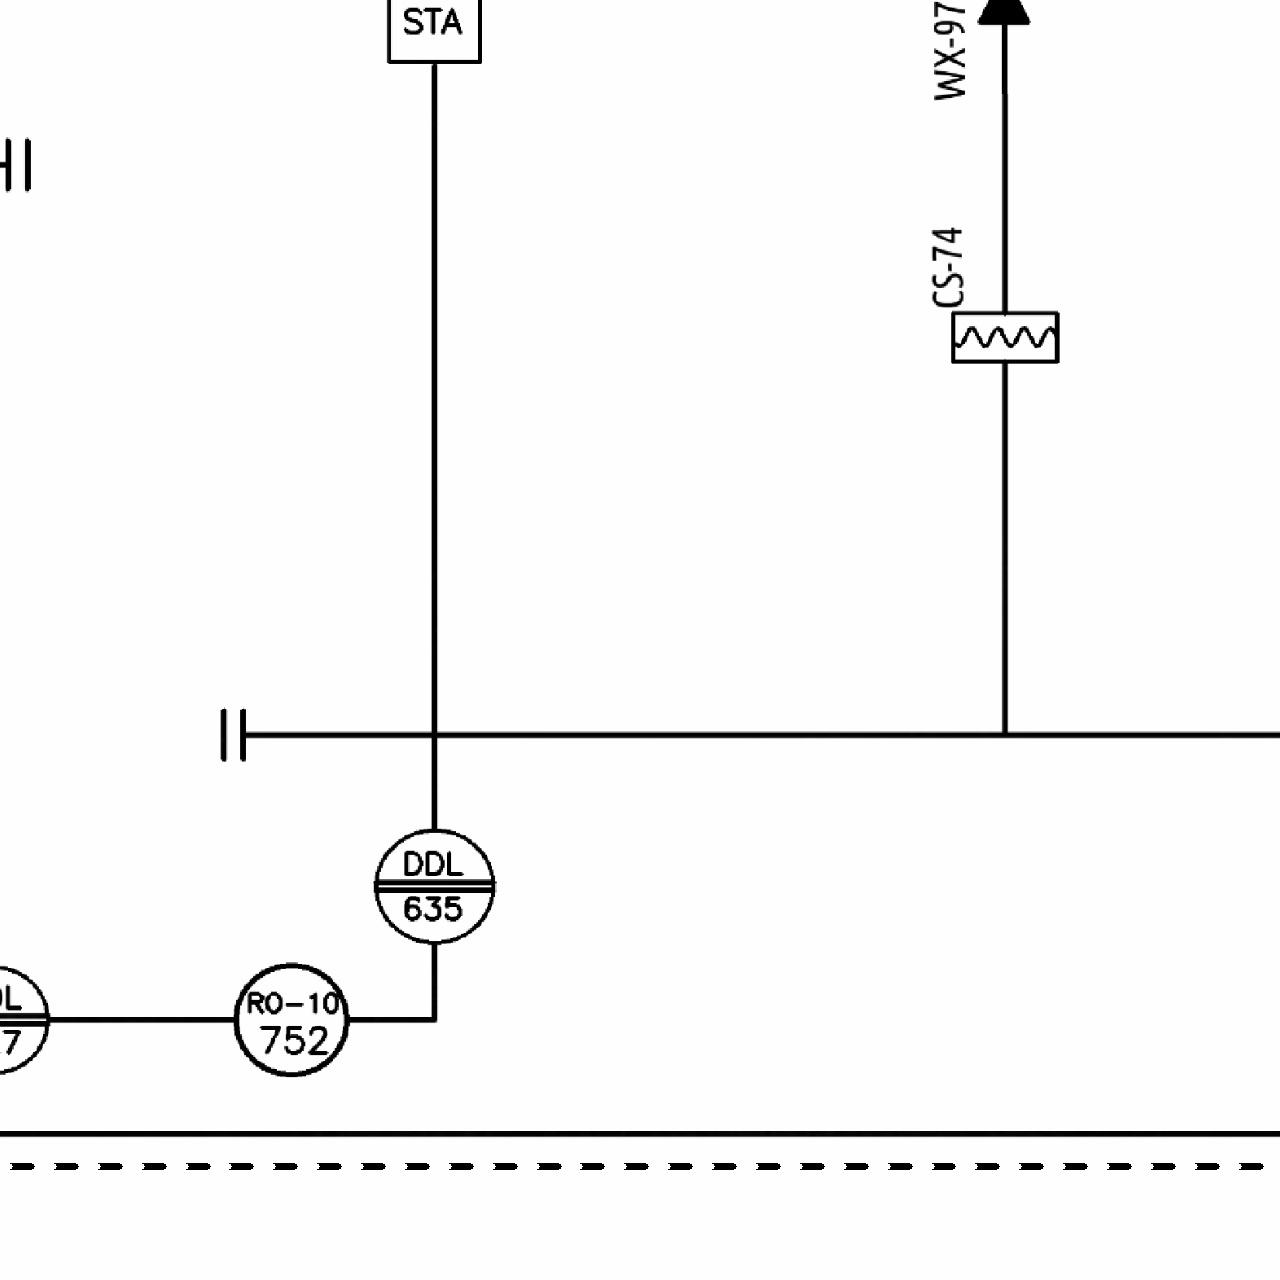Control-Panel: (368, 821, 499, 949), (227, 956, 354, 1081)
